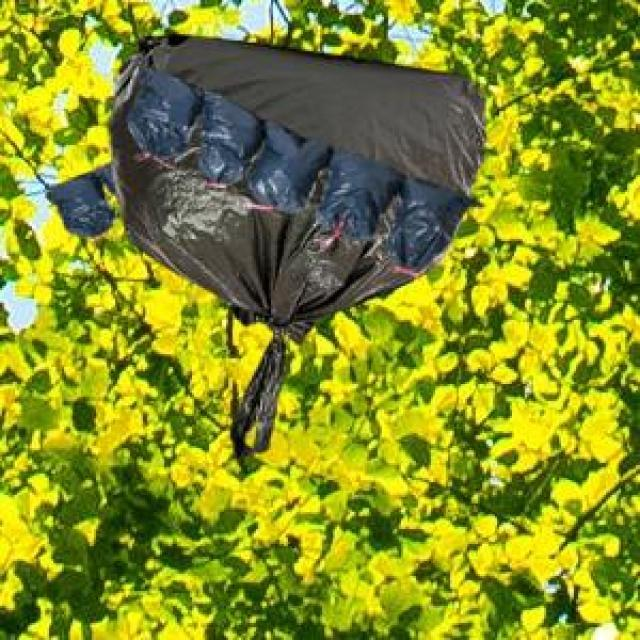Trashbag: (128, 68, 200, 160), (391, 177, 462, 266), (255, 126, 330, 210), (322, 159, 396, 235), (196, 95, 264, 175), (47, 169, 120, 240)
